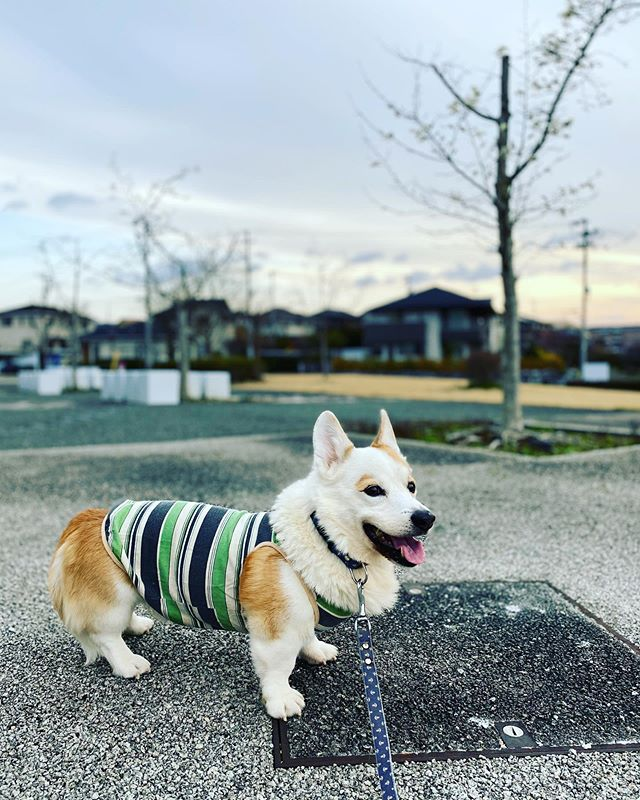animal: (38, 420, 455, 704)
building: (65, 292, 356, 373), (355, 278, 511, 378)
sky: (1, 1, 625, 277)
tree: (415, 13, 626, 431)
